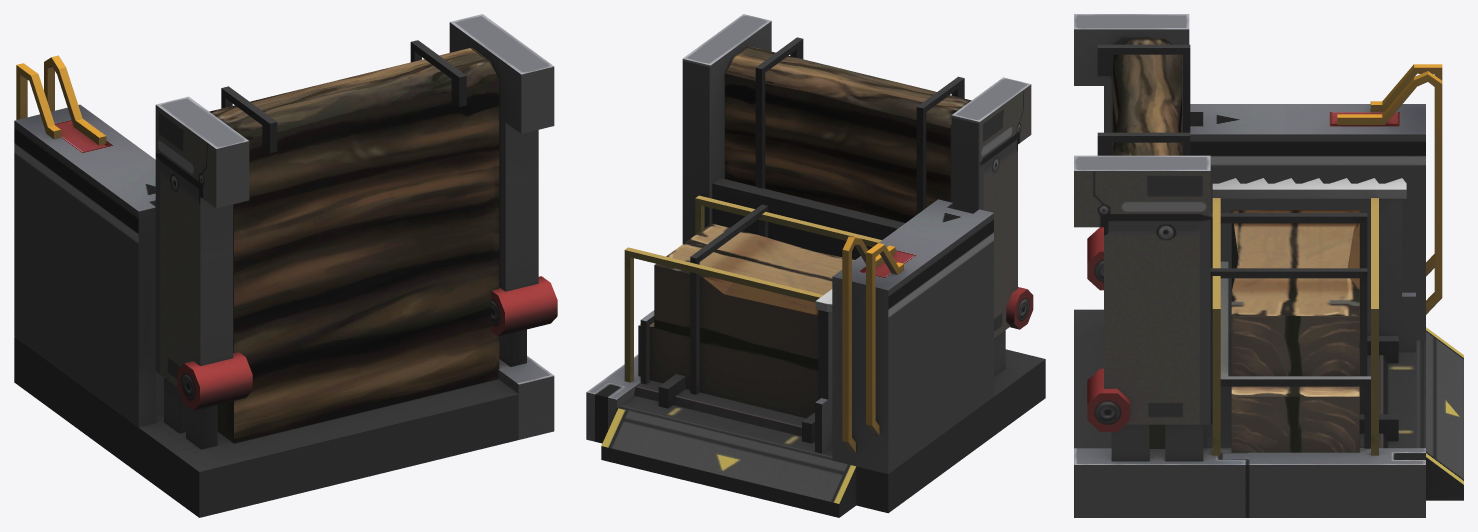
File: trap_488_xbtwod.fbx
3 renders of one model, left to right at view 1: azimuth 30°, elevation 25°; view 2: azimuth 150°, elevation 25°; view 3: azimuth 270°, elevation 25°, orthographic. The views are drawn at different scales.
Parts seen in each view (by area): view 1: trap_488_xbtwod; view 2: trap_488_xbtwod; view 3: trap_488_xbtwod.
Boxes of the visible parts, x1=… form: trap_488_xbtwod: x1=14, y1=14, x2=557, y2=517; trap_488_xbtwod: x1=586, y1=14, x2=1045, y2=517; trap_488_xbtwod: x1=1074, y1=14, x2=1463, y2=517.
Bounding box in the file's own units: 1.03 × 0.982 × 1.
1 material, 1 textured.
